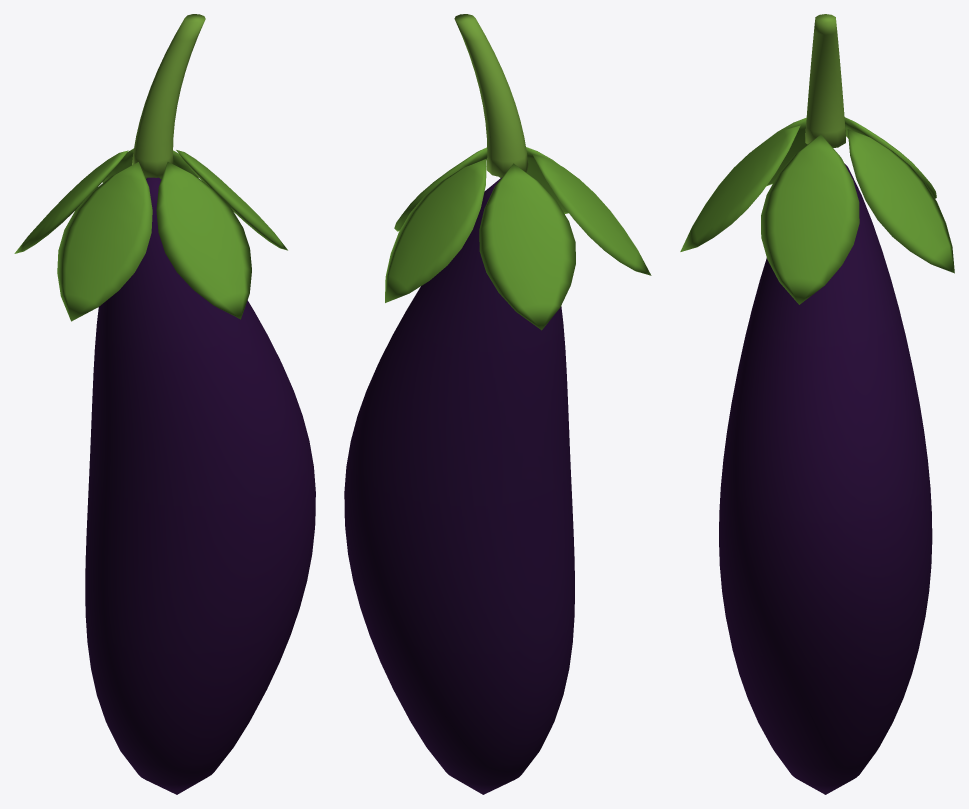
File: eggplant.glb
The picture shows the model from 3 angles, left to right: view 1: azimuth 30°, elevation 25°; view 2: azimuth 150°, elevation 25°; view 3: azimuth 270°, elevation 25°; orthographic projection.
Visible parts, largest first — view 1: Eggplant.body, Eggplant.calyx, Eggplant.stem; view 2: Eggplant.body, Eggplant.calyx, Eggplant.stem; view 3: Eggplant.body, Eggplant.calyx, Eggplant.stem.
Boxes of the visible parts, x1,y1,x2,y2 form: Eggplant.body: (85, 177, 315, 794); Eggplant.calyx: (14, 148, 287, 321); Eggplant.stem: (132, 14, 205, 177); Eggplant.body: (344, 177, 574, 794); Eggplant.calyx: (385, 147, 651, 330); Eggplant.stem: (454, 14, 528, 177); Eggplant.body: (719, 163, 932, 794); Eggplant.calyx: (680, 117, 954, 304); Eggplant.stem: (805, 14, 845, 147).
Bounding box in the file's own units: 0.0865 × 0.242 × 0.0767.
